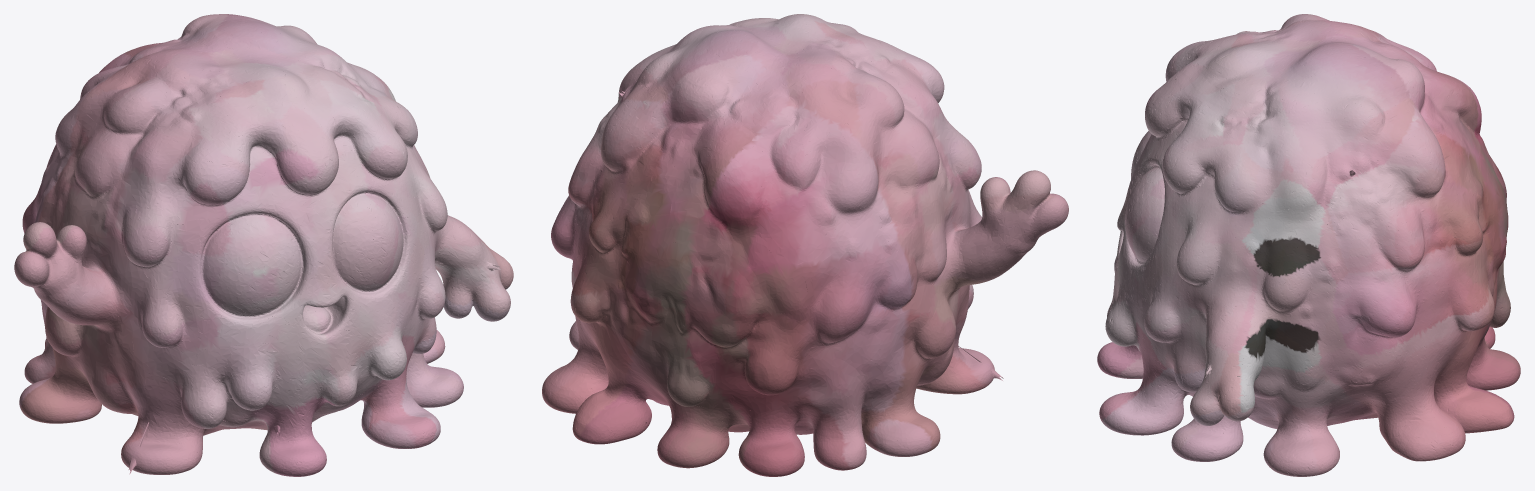
The model's file is melty_hy3d.glb.
3 views of the same model, side by side, from view 1: azimuth 30°, elevation 25°; view 2: azimuth 150°, elevation 25°; view 3: azimuth 270°, elevation 25° (orthographic). The views are drawn at different scales.
Parts seen in each view (by area): view 1: geometry_0; view 2: geometry_0; view 3: geometry_0.
Part boxes in pixels (x1,y1,x2,y2): geometry_0: [14, 14, 513, 476]; geometry_0: [542, 14, 1068, 476]; geometry_0: [1097, 14, 1520, 476].
Bounding box in the file's own units: 1.99 × 1.35 × 1.51.
